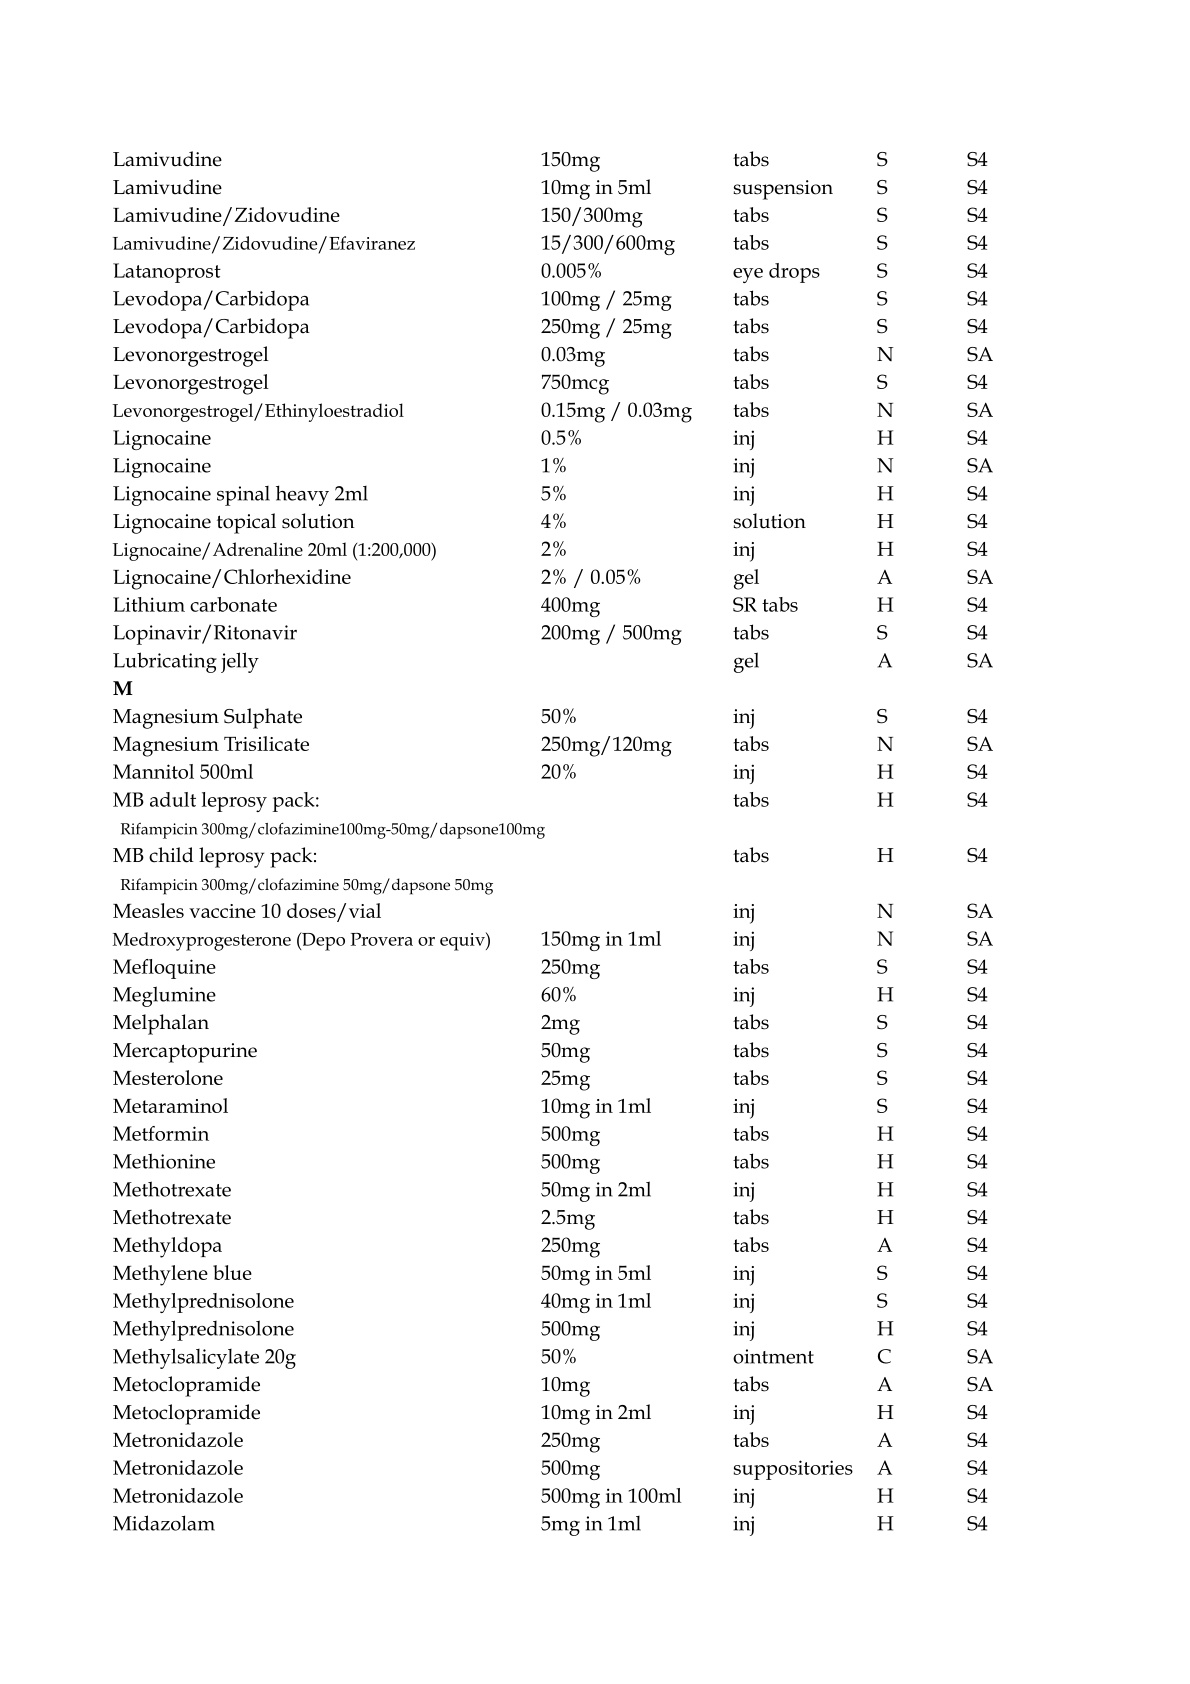nolines: (111, 148, 996, 1537)
